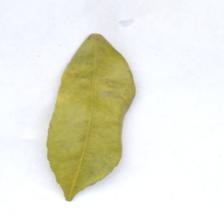greening: (46, 101, 134, 178)
